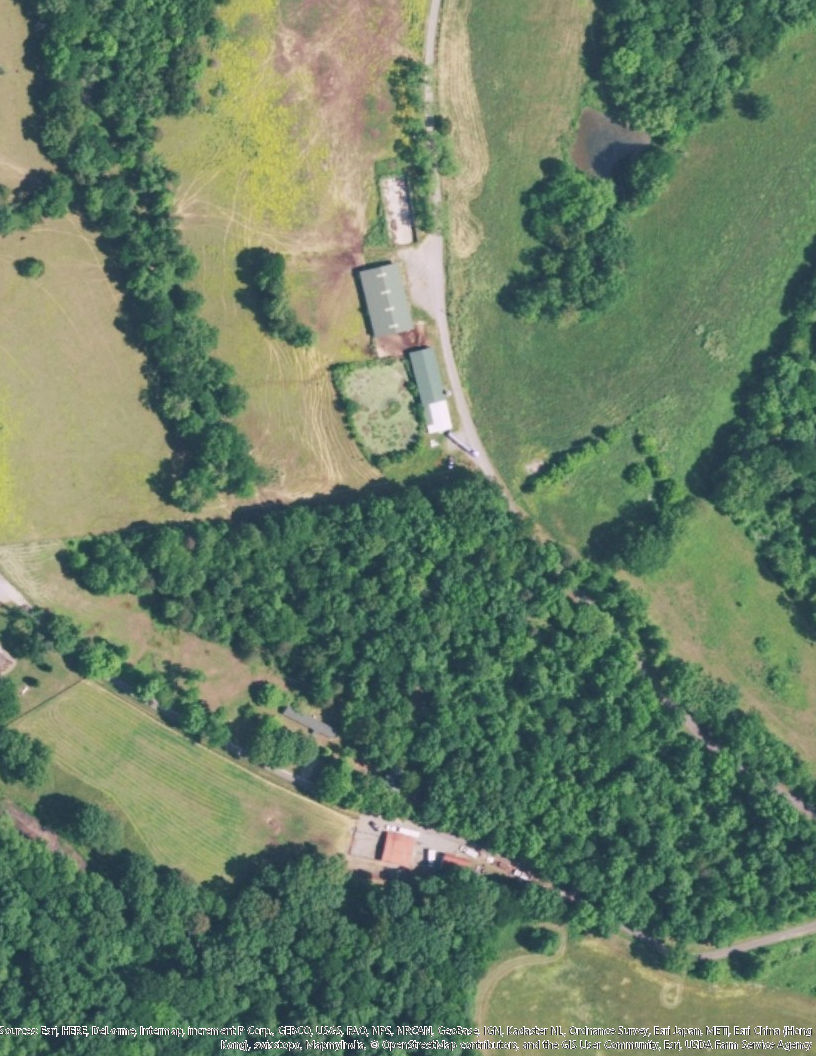cafo: (353, 256, 416, 344), (406, 338, 451, 445)
